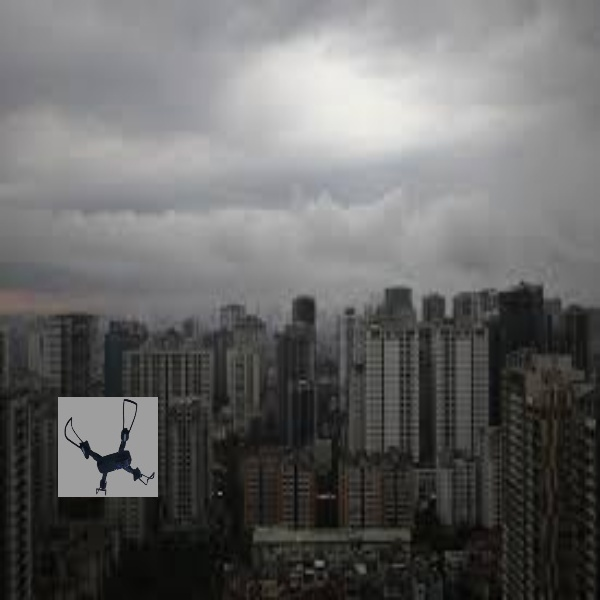drone: (59, 396, 162, 499)
